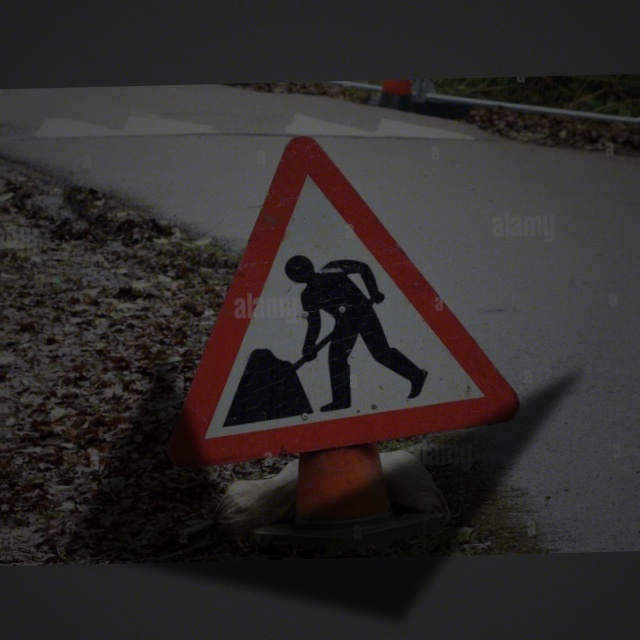Men_at_Work: (164, 135, 533, 459)
